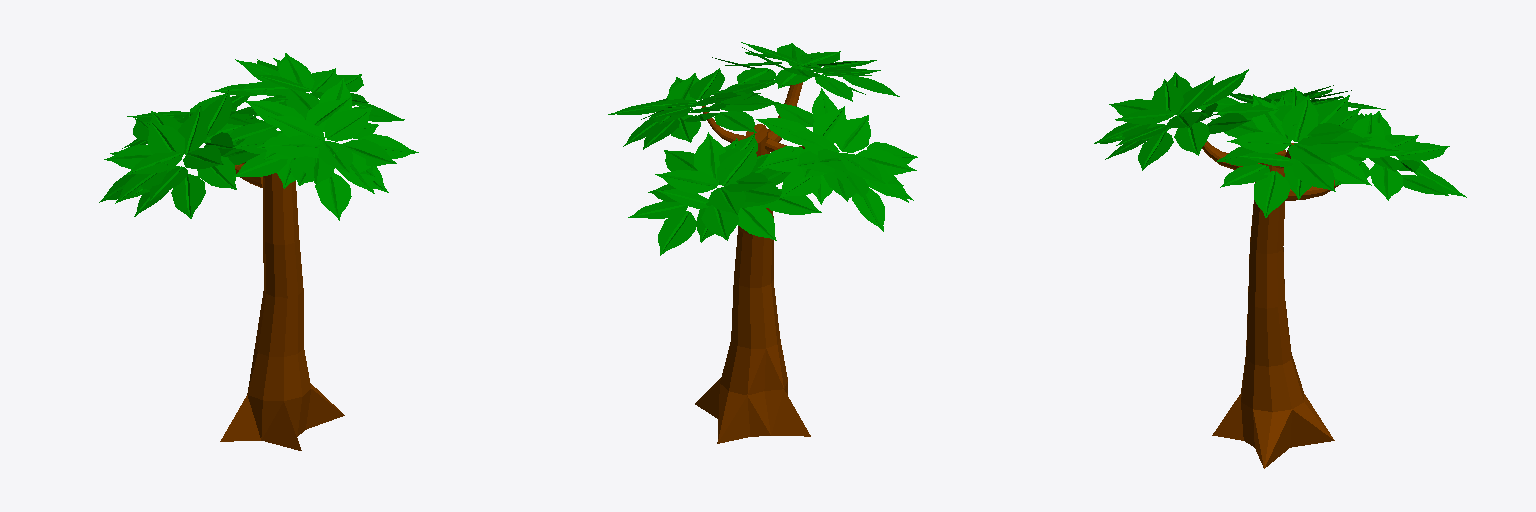
Rendered from tree3.obj.
The picture shows the model from 3 angles: view 1: azimuth 30°, elevation 25°; view 2: azimuth 150°, elevation 25°; view 3: azimuth 270°, elevation 25°; orthographic projection.
Parts seen in each view (by area): view 1: pien, Duplicate05, Duplicate08, Duplicate07, Duplicate06; view 2: pien, Duplicate06, Duplicate08, Duplicate07, Duplicate05; view 3: pien, Duplicate07, Duplicate05, Duplicate06, Duplicate08.
Boxes of the visible parts, box(x1,y1,x2,y2) form: pien: box(220, 173, 344, 450); Duplicate05: box(232, 78, 418, 220); Duplicate08: box(99, 90, 276, 218); Duplicate07: box(211, 53, 404, 121); Duplicate06: box(122, 94, 265, 148); pien: box(695, 124, 810, 443); Duplicate06: box(628, 132, 821, 255); Duplicate08: box(756, 88, 917, 231); Duplicate07: box(608, 68, 780, 149); Duplicate05: box(712, 42, 899, 101); pien: box(1212, 150, 1334, 468); Duplicate07: box(1211, 87, 1404, 217); Duplicate05: box(1094, 69, 1277, 170); Duplicate06: box(1335, 111, 1466, 200); Duplicate08: box(1196, 85, 1385, 115).
Size of the model in its own units: 2.37 by 2.77 by 2.72.